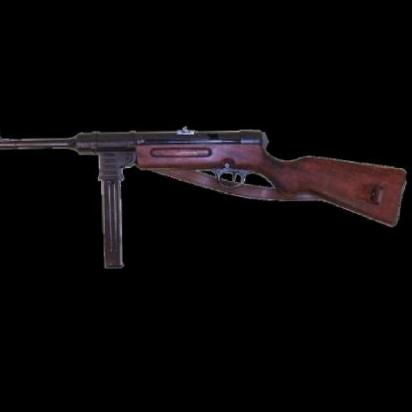Gun: (0, 95, 411, 278)
